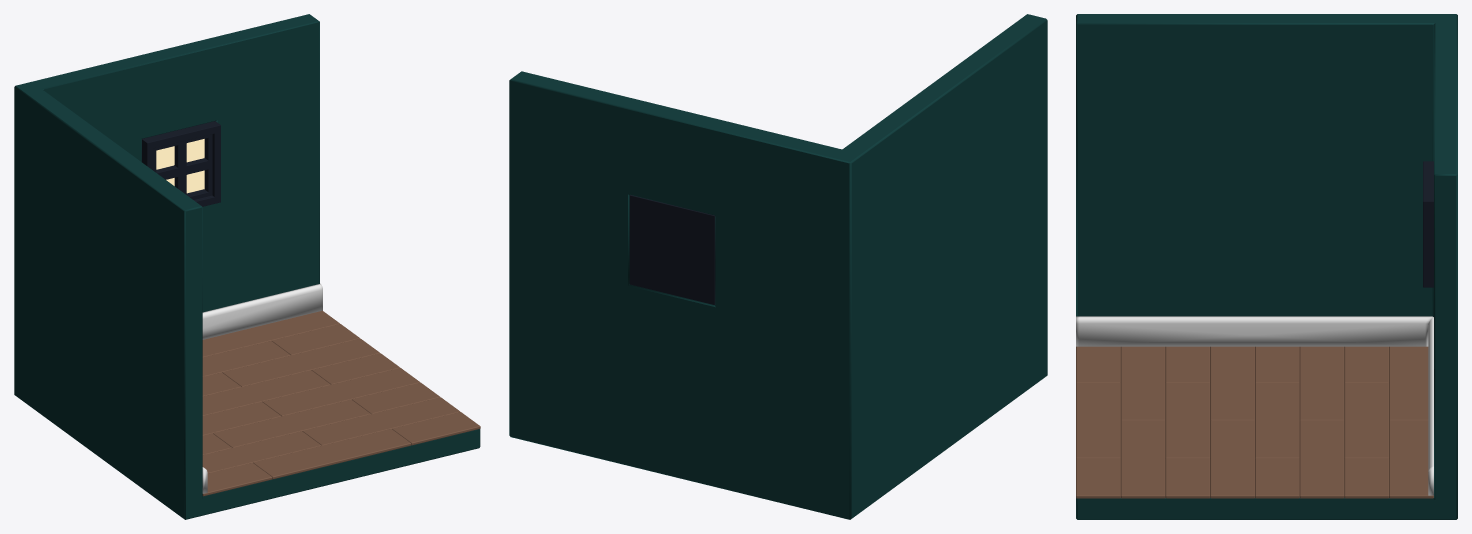
Rendered from mini_room_set.glb.
The picture shows the model from 3 angles, left to right: view 1: azimuth 30°, elevation 25°; view 2: azimuth 150°, elevation 25°; view 3: azimuth 270°, elevation 25°; orthographic projection. The views are drawn at different scales.
Visible parts, largest first — view 1: flooring.001; view 2: flooring.001; view 3: flooring.001.
Boxes of the visible parts, <box> form: flooring.001: <box>14,14,480,519</box>; flooring.001: <box>509,14,1047,519</box>; flooring.001: <box>1076,14,1457,519</box>.
Size of the model in its own units: 8 by 8 by 8.
